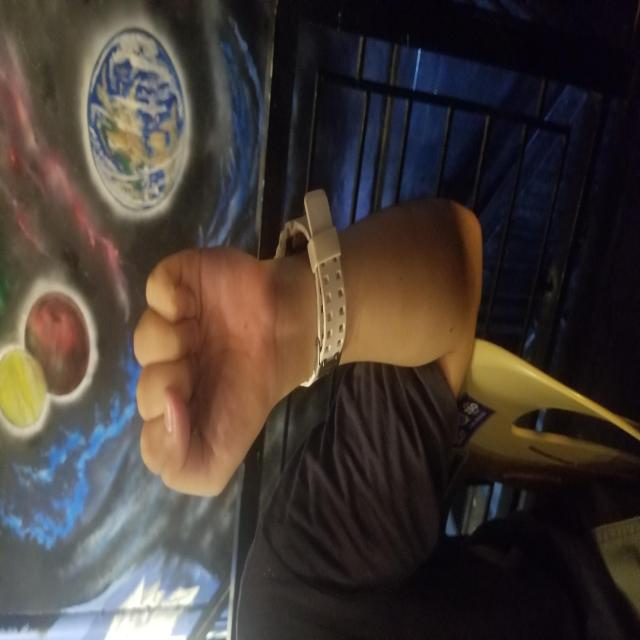S: (141, 133, 393, 254)
